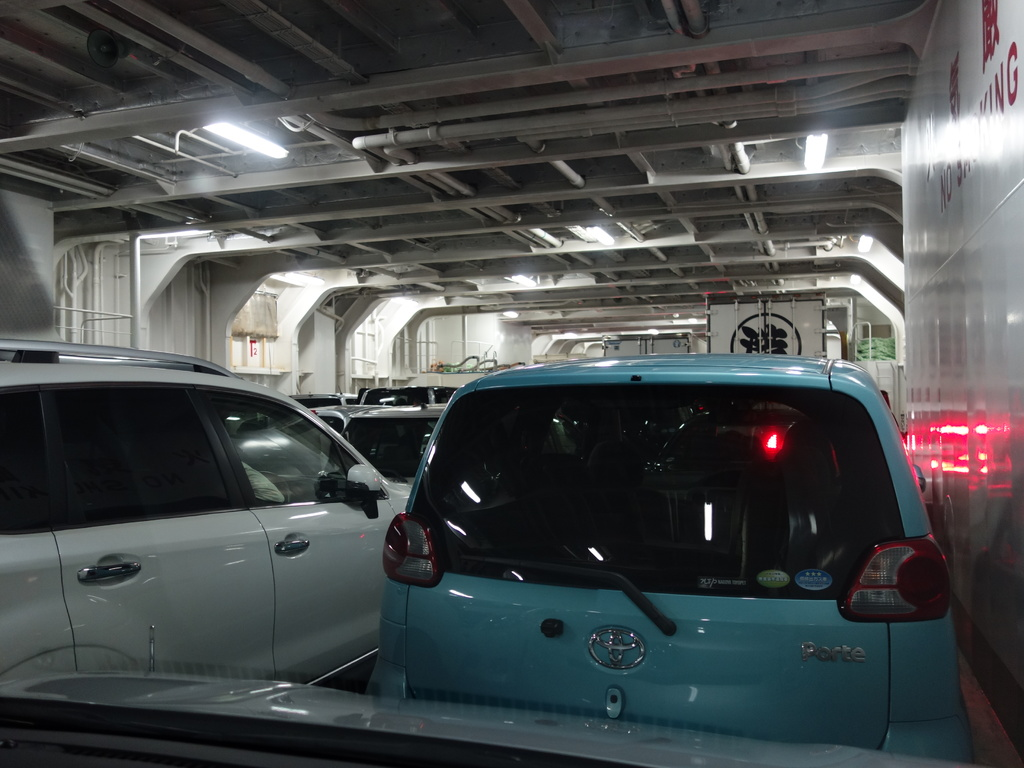cars: (369, 356, 972, 760), (12, 366, 414, 726), (0, 626, 974, 767), (340, 398, 448, 484), (360, 383, 458, 404), (312, 404, 356, 441), (290, 386, 357, 410)
